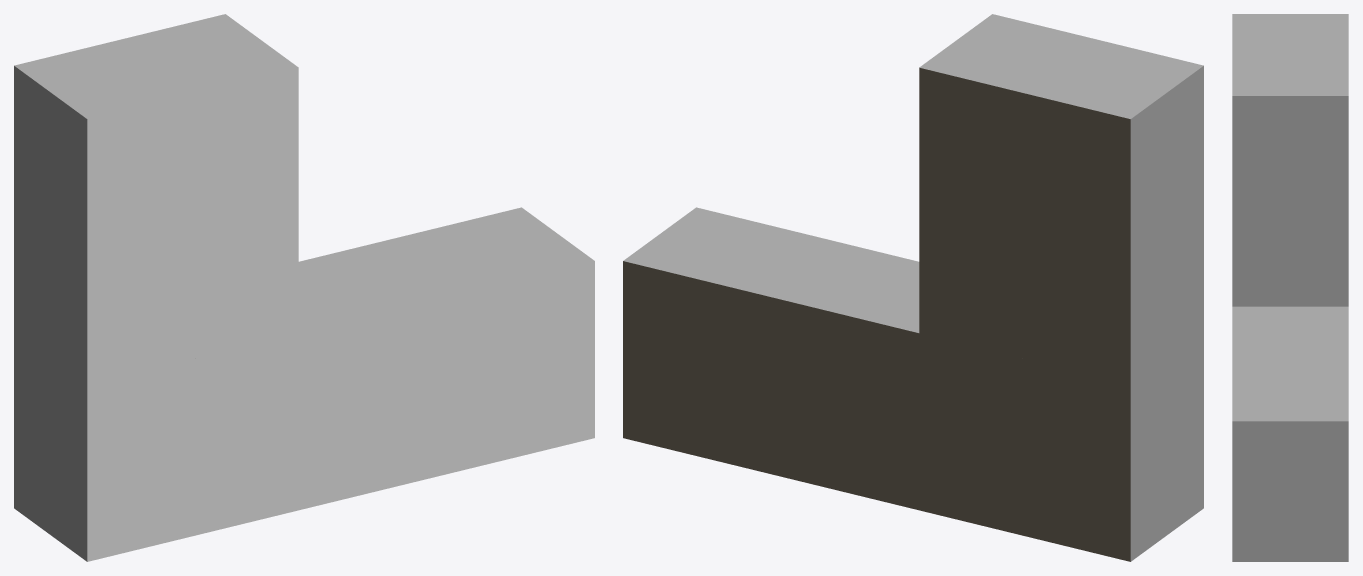
Rendered from borish_concave_L_room.obj.
The picture shows the model from 3 angles, left to right: view 1: azimuth 30°, elevation 25°; view 2: azimuth 150°, elevation 25°; view 3: azimuth 270°, elevation 25°; orthographic projection. The views are drawn at different scales.
Visible parts, largest first — view 1: Ceiling_South, Ceiling_NorthWest, West_Wall, Notch_South_Wall, North_Wall; view 2: Floor_South, Floor_NorthWest, West_Wall, Notch_South_Wall, North_Wall; view 3: Notch_East_Wall, East_Wall, Notch_South_Wall, North_Wall.
Part boxes in pixels (x1=…): Ceiling_South: x1=87, y1=261, x2=594, y2=561; Ceiling_NorthWest: x1=87, y1=67, x2=298, y2=384; West_Wall: x1=14, y1=66, x2=87, y2=561; Notch_South_Wall: x1=298, y1=207, x2=594, y2=332; North_Wall: x1=14, y1=14, x2=298, y2=118; Floor_South: x1=623, y1=261, x2=1130, y2=561; Floor_NorthWest: x1=919, y1=67, x2=1130, y2=384; West_Wall: x1=1130, y1=66, x2=1203, y2=561; Notch_South_Wall: x1=623, y1=207, x2=919, y2=332; North_Wall: x1=919, y1=14, x2=1203, y2=118; Notch_East_Wall: x1=1232, y1=96, x2=1348, y2=306; East_Wall: x1=1232, y1=421, x2=1348, y2=561; Notch_South_Wall: x1=1232, y1=306, x2=1348, y2=421; North_Wall: x1=1232, y1=14, x2=1348, y2=95.
Bounding box in the file's own units: 12 × 10 × 3.
